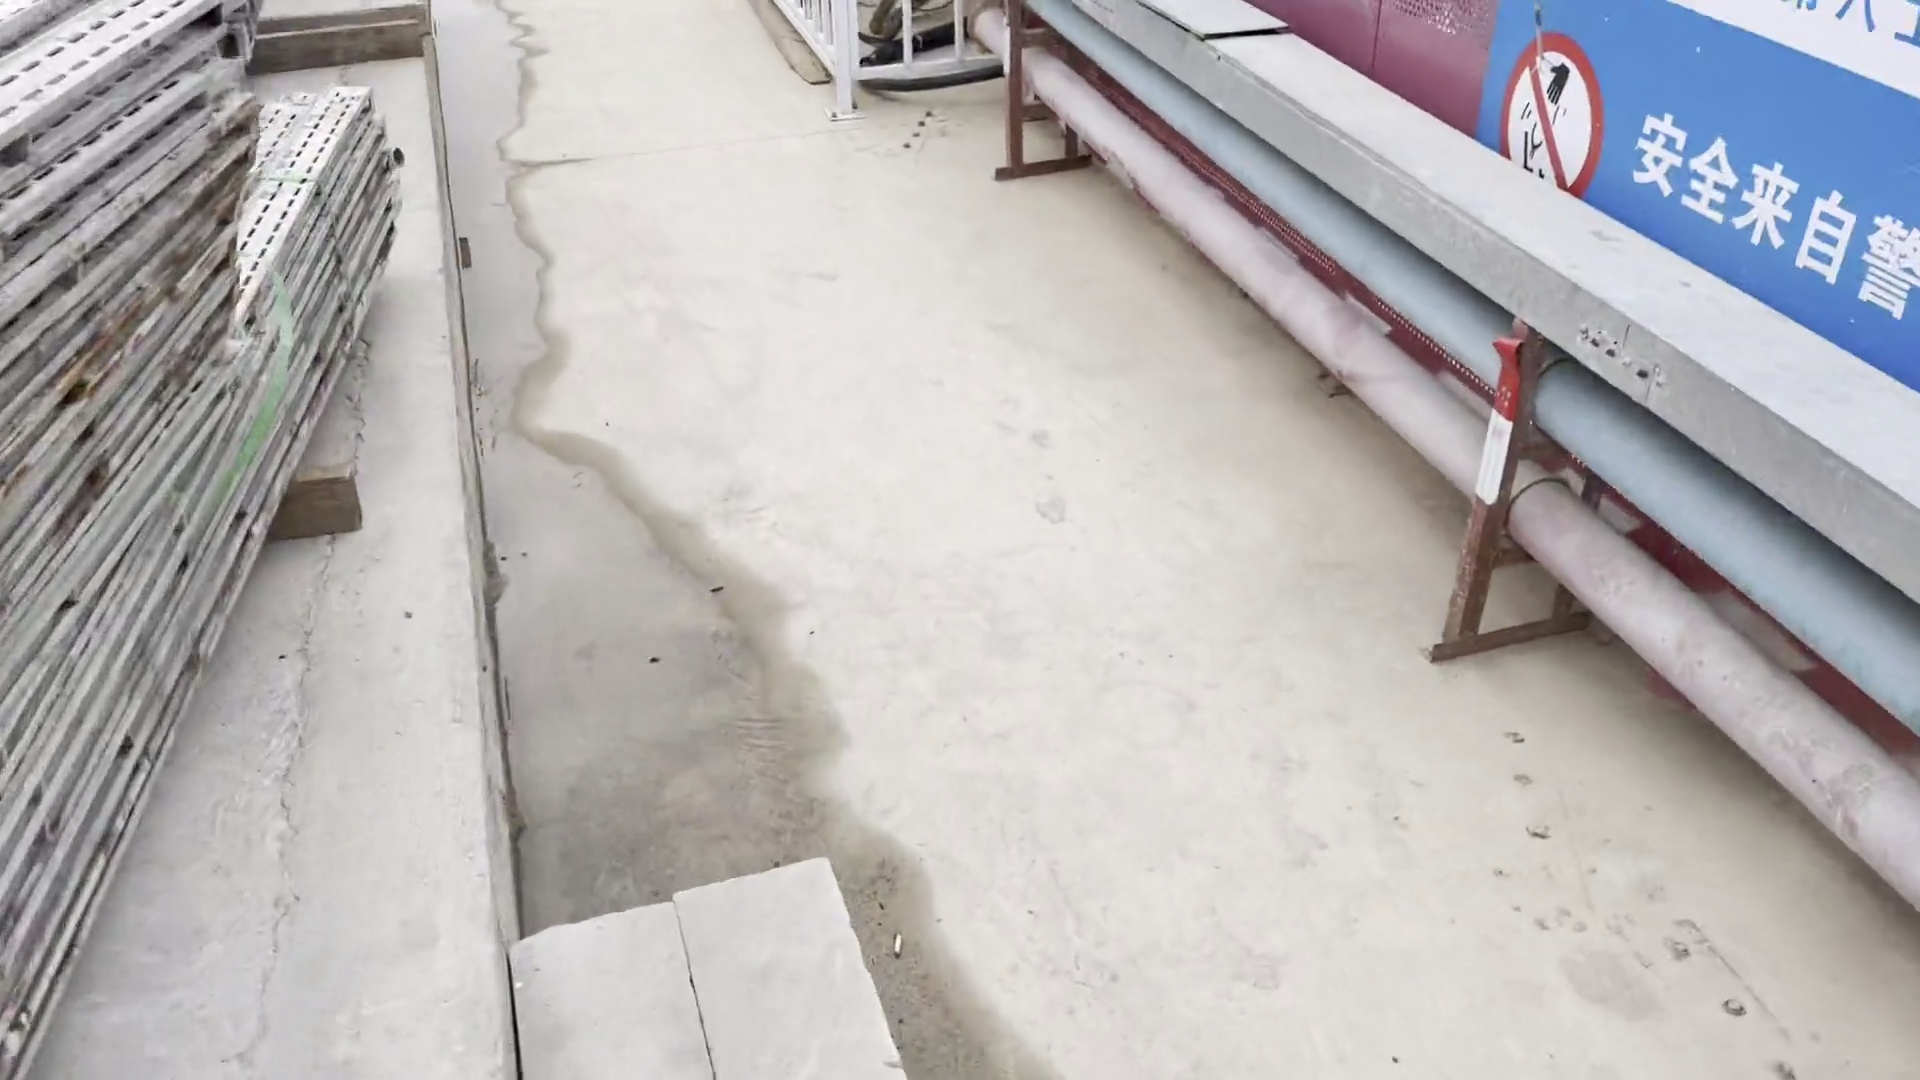brick: (516, 851, 930, 1080)
fence: (1263, 3, 1920, 378)
slogan: (1466, 1, 1920, 386)
